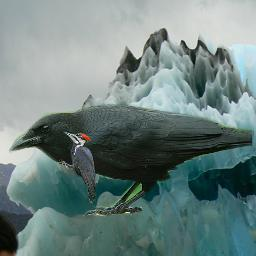Crow: (9, 104, 254, 219)
Woodpecker: (59, 131, 99, 204)
